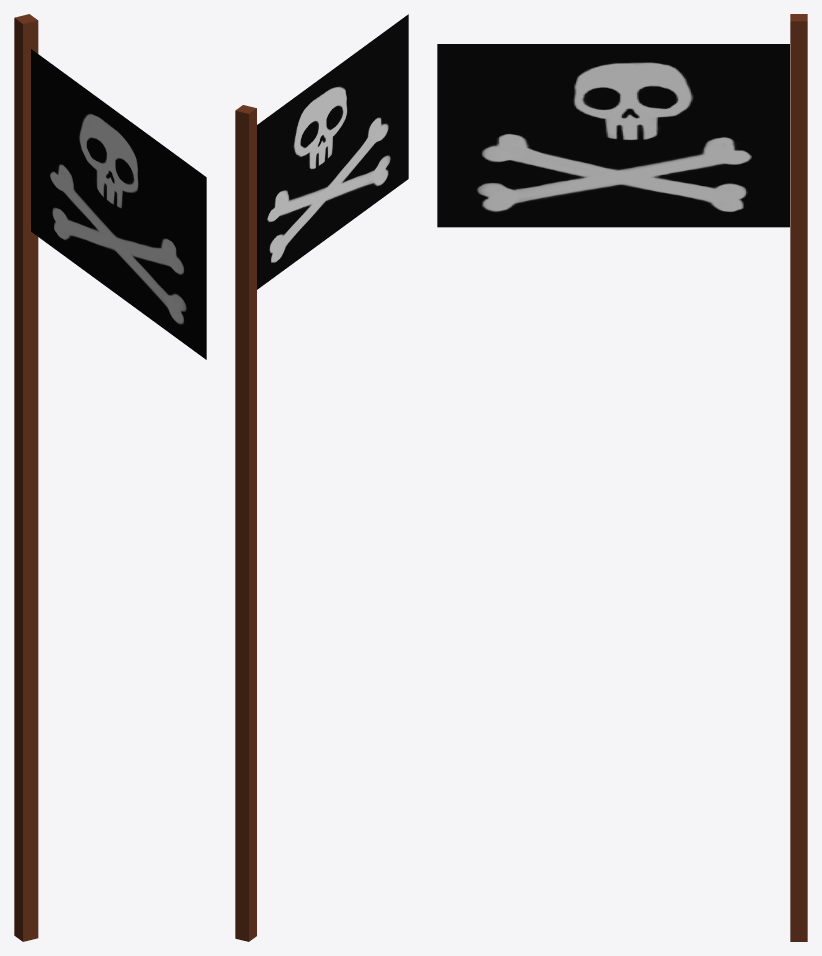
Rendered from bandeirapuirata.fbx.
The picture shows the model from 3 angles, left to right: view 1: azimuth 30°, elevation 25°; view 2: azimuth 150°, elevation 25°; view 3: azimuth 270°, elevation 25°; orthographic projection. The views are drawn at different scales.
Visible parts, largest first — view 1: Cubo.001, Cubo; view 2: Cubo.001, Cubo; view 3: Cubo.001, Cubo.
Boxes of the visible parts, x1,y1,x2,y2 form: Cubo.001: [31, 49, 206, 359]; Cubo: [14, 14, 38, 941]; Cubo.001: [257, 14, 408, 289]; Cubo: [235, 105, 256, 941]; Cubo.001: [437, 44, 789, 227]; Cubo: [790, 14, 807, 941].
Size of the model in its own units: 16.81 by 970 by 354.
